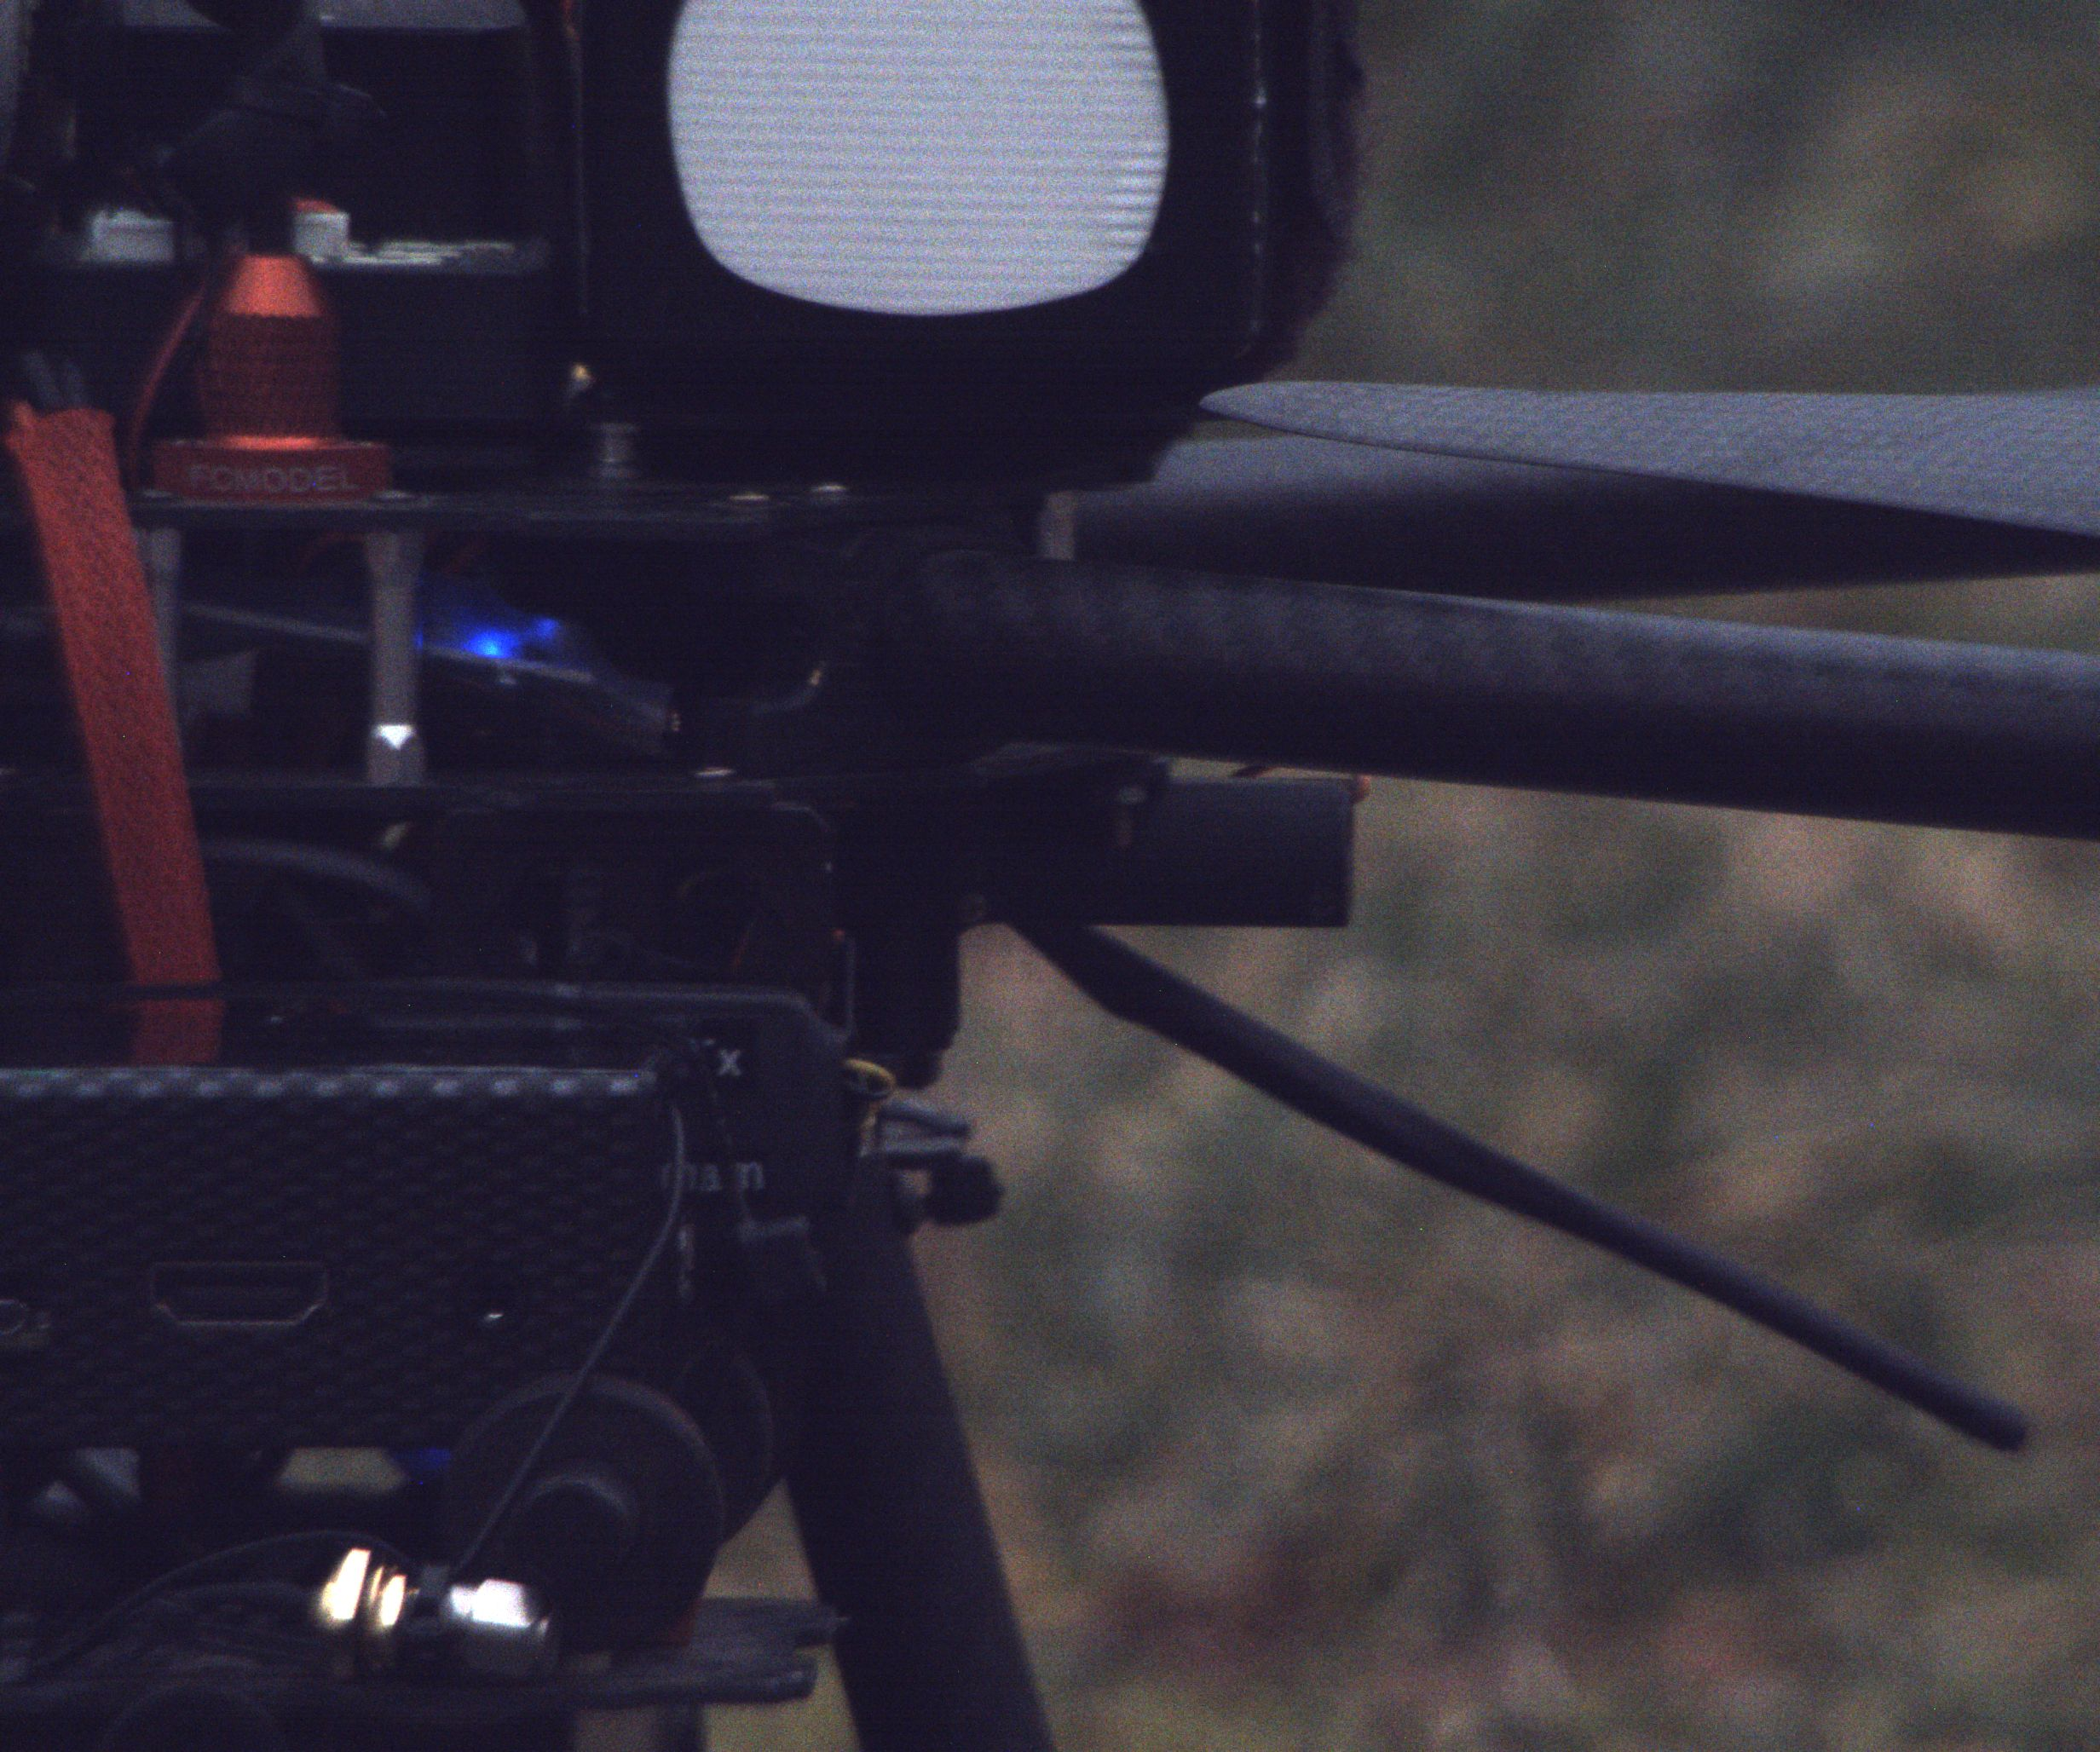Drohne: (0, 0, 2069, 1745)
